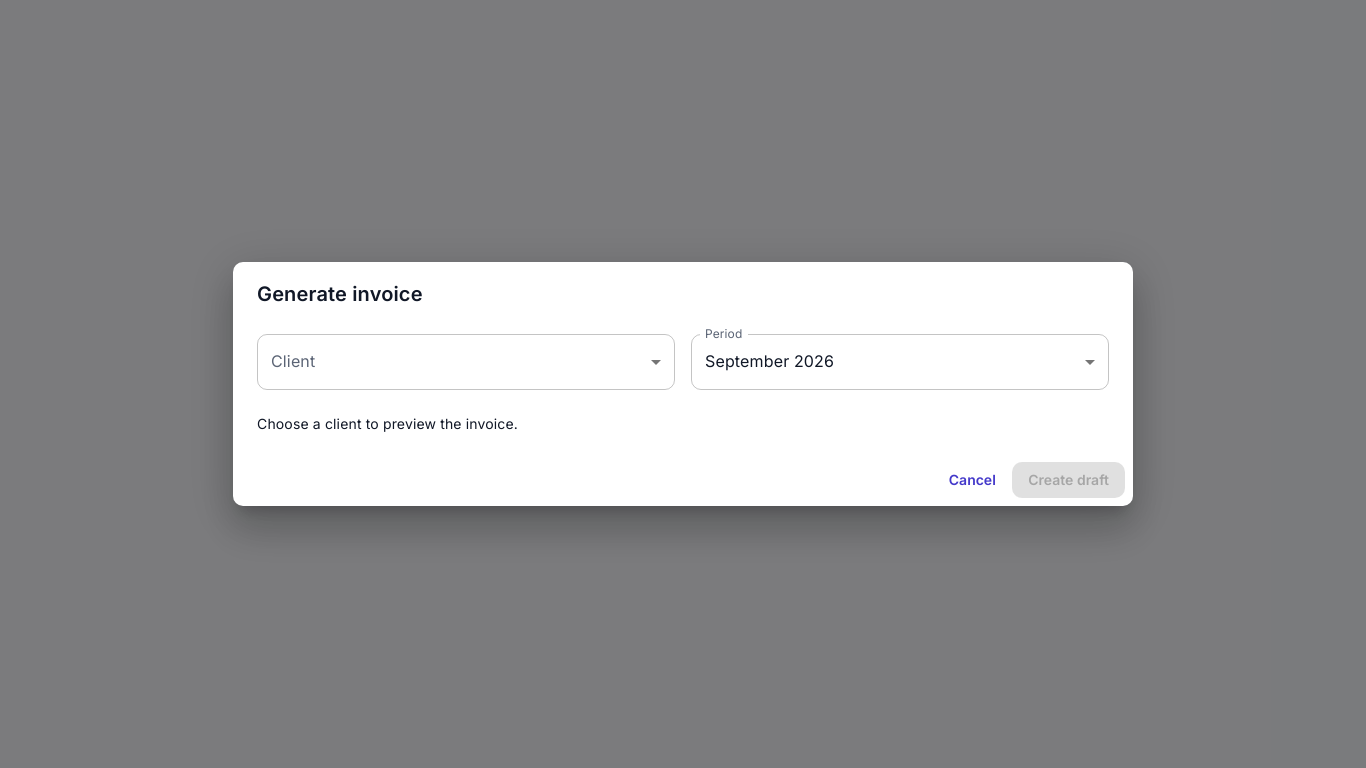
Test: GenerateInvoiceDialog › previews the lines before creating a draft
Click the dropdown named "Client" at point(466, 362), box [257, 334, 675, 390]
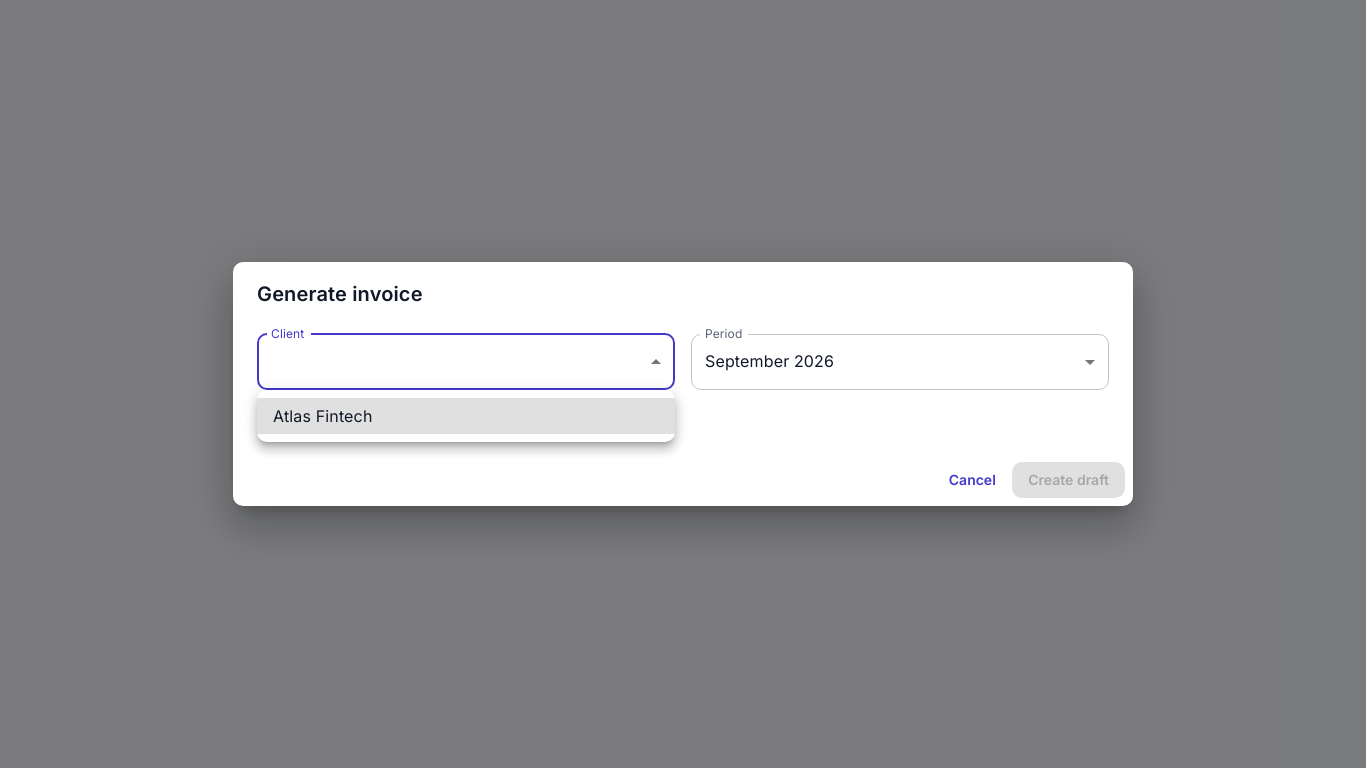
Click the option "Atlas Fintech" at point(323, 416), box [257, 398, 675, 434]
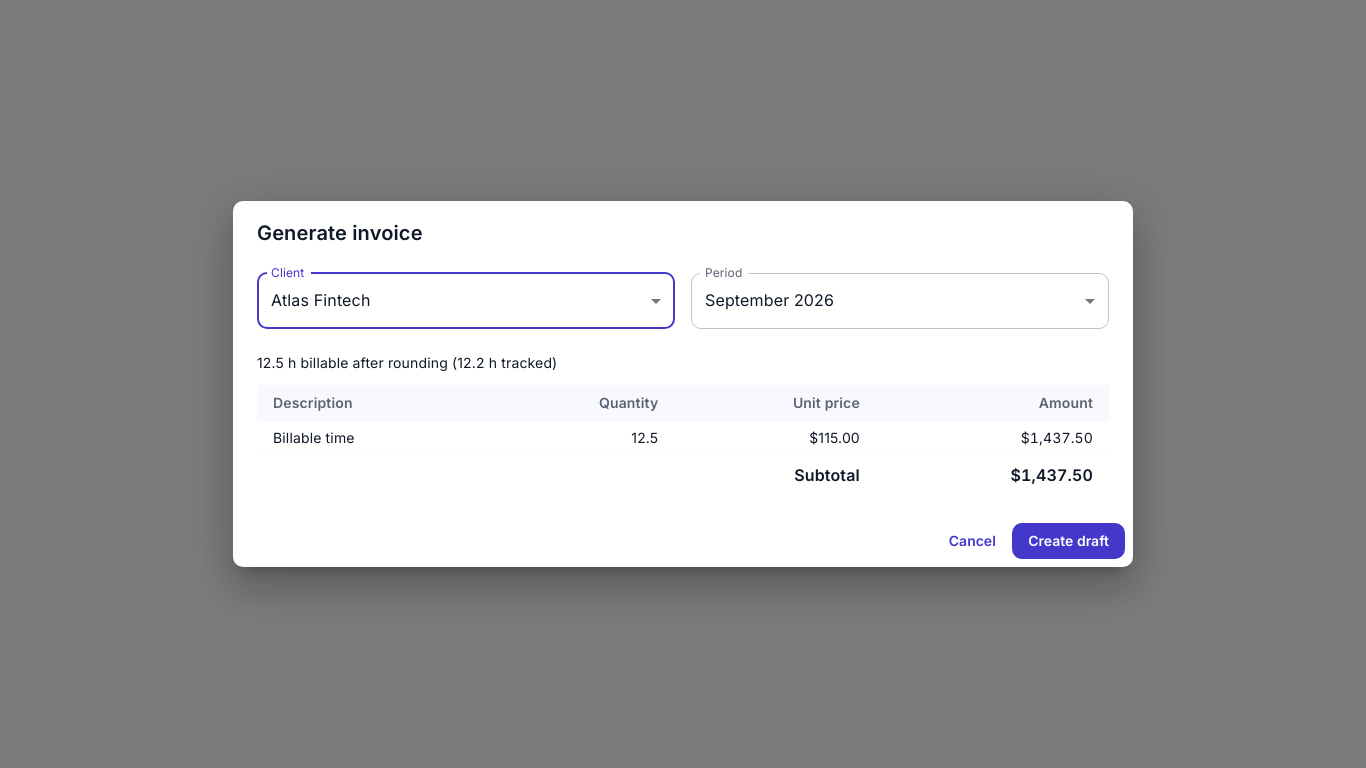
expect the text "Billable time" is shown: met, box [273, 429, 355, 446]
expect the button "Create draft" is enabled: met, box [1012, 523, 1125, 559]
